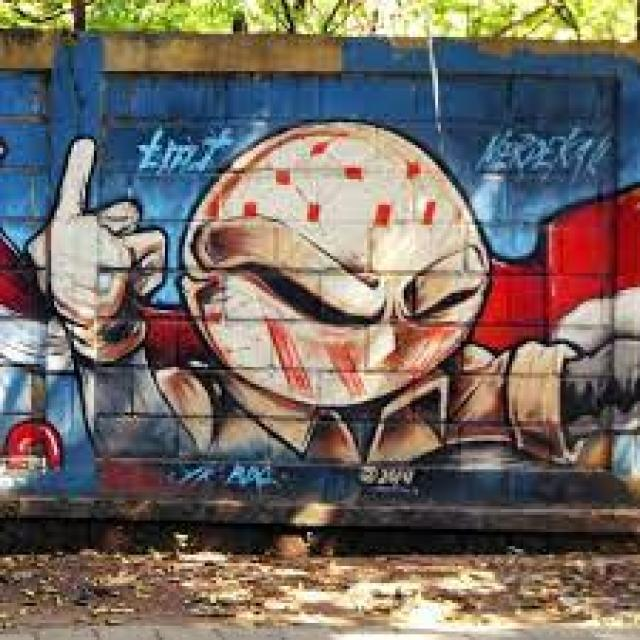-: (0, 30, 640, 512)
